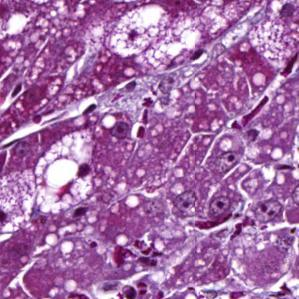ballooning: (104, 3, 206, 72), (32, 126, 103, 216)
